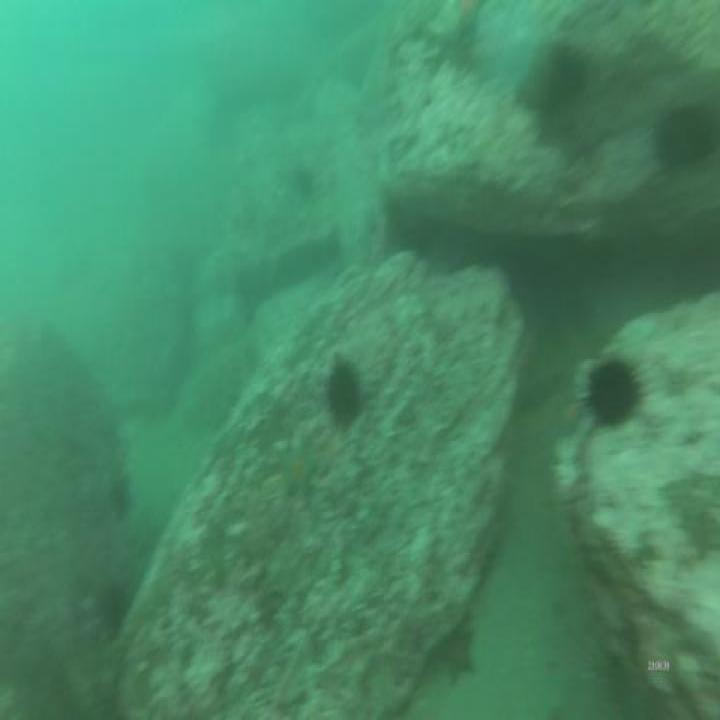echinus: (660, 90, 717, 180), (586, 350, 642, 432), (321, 350, 369, 434)
starfish: (433, 620, 483, 681), (274, 441, 322, 503)
